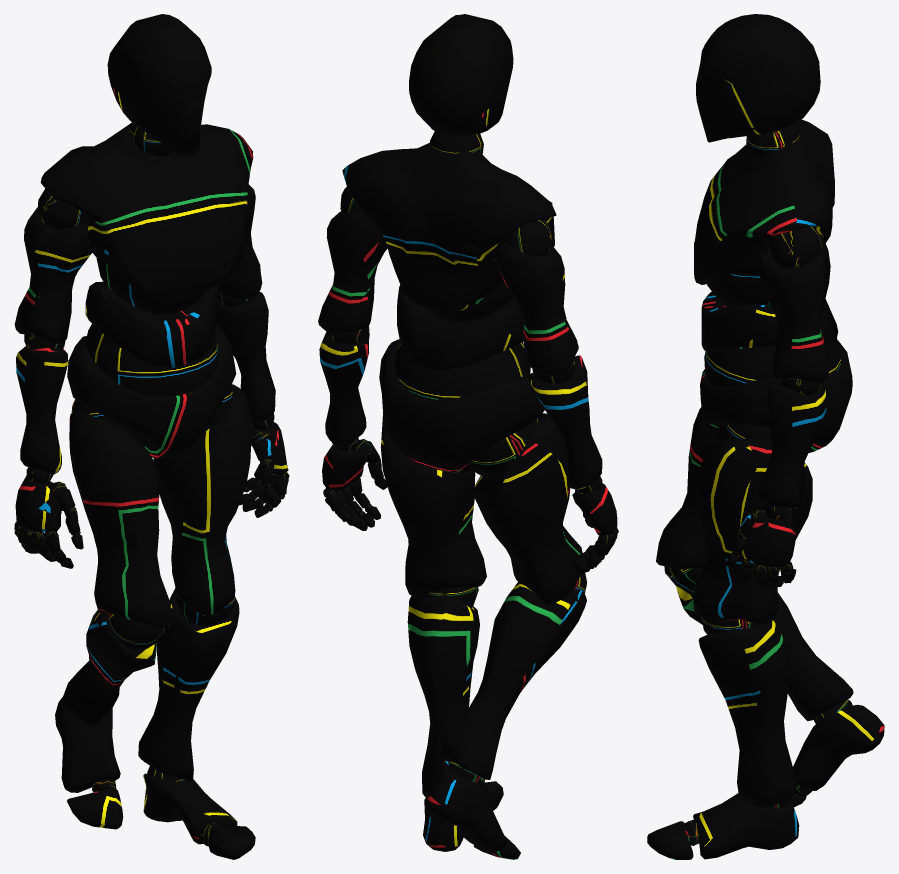
Rendered from y-bot-origin_000027.obj.
3 renders of one model, left to right at view 1: azimuth 30°, elevation 25°; view 2: azimuth 150°, elevation 25°; view 3: azimuth 270°, elevation 25°, orthographic.
Visible parts, largest first — view 1: Alpha_Surface_Alpha_SurfaceMesh, Alpha_Joints_Alpha_JointsMesh; view 2: Alpha_Surface_Alpha_SurfaceMesh, Alpha_Joints_Alpha_JointsMesh; view 3: Alpha_Surface_Alpha_SurfaceMesh, Alpha_Joints_Alpha_JointsMesh.
Part boxes in pixels (bbox=[...]): Alpha_Surface_Alpha_SurfaceMesh: bbox=[14, 14, 288, 859]; Alpha_Joints_Alpha_JointsMesh: bbox=[14, 122, 289, 846]; Alpha_Surface_Alpha_SurfaceMesh: bbox=[318, 14, 617, 859]; Alpha_Joints_Alpha_JointsMesh: bbox=[323, 131, 618, 785]; Alpha_Surface_Alpha_SurfaceMesh: bbox=[647, 14, 884, 859]; Alpha_Joints_Alpha_JointsMesh: bbox=[664, 123, 852, 845].
Size of the model in its own units: 0.6324 by 1.79 by 0.4693.
